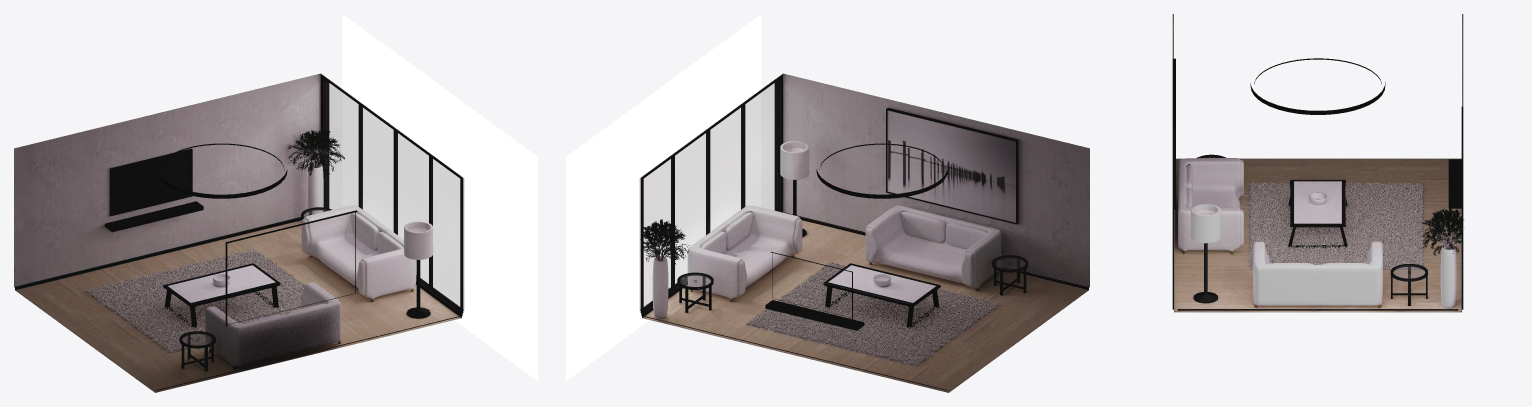
Rendered from mjp-cozy-living.glb.
The picture shows the model from 3 angles, left to right: view 1: azimuth 30°, elevation 25°; view 2: azimuth 150°, elevation 25°; view 3: azimuth 270°, elevation 25°; orthographic projection. The views are drawn at different scales.
Visible parts, largest first — view 1: Modern Living Room_Structure_Windows_0, Modern Living Room_Backdrop_0, Modern Living Room_Sofa_0, Modern Living Room_Structure_0, Modern Living Room_Carpet_0, Modern Living Room_TV_0, Modern Living Room_CoffeeTable_0, Modern Living Room_Lamp_0, Modern Living Room_PlantLeaves_0, Modern Living Room_Shelf_0, Modern Living Room_Light_0, Modern Living Room_EndTable_0 (+2 smaller); view 2: Modern Living Room_Structure_Windows_0, Modern Living Room_Backdrop_0, Modern Living Room_Sofa_0, Modern Living Room_Structure_0, Modern Living Room_Painting_0, Modern Living Room_Carpet_0, Modern Living Room_CoffeeTable_0, Modern Living Room_EndTable_0, Modern Living Room_Lamp_0, Modern Living Room_PlantLeaves_0, Modern Living Room_Shelf_0, Modern Living Room_Pot_0 (+2 smaller); view 3: Modern Living Room_Structure_Windows_0, Modern Living Room_Sofa_0, Modern Living Room_Carpet_0, Modern Living Room_CoffeeTable_0, Modern Living Room_Lamp_0, Modern Living Room_PlantLeaves_0, Modern Living Room_Pot_0, Modern Living Room_Light_0, Modern Living Room_Shelf_0, Modern Living Room_EndTable_0, Modern Living Room_Painting_0, Modern Living Room_EndTable_Glass_0.
Part boxes in pixels (bbox=[...]): Modern Living Room_Structure_Windows_0: bbox=[14, 73, 463, 392]; Modern Living Room_Backdrop_0: bbox=[342, 14, 537, 381]; Modern Living Room_Sofa_0: bbox=[205, 205, 416, 369]; Modern Living Room_Structure_0: bbox=[330, 84, 459, 305]; Modern Living Room_Carpet_0: bbox=[86, 248, 304, 352]; Modern Living Room_TV_0: bbox=[110, 148, 192, 215]; Modern Living Room_CoffeeTable_0: bbox=[163, 263, 280, 328]; Modern Living Room_Lamp_0: bbox=[404, 221, 433, 318]; Modern Living Room_PlantLeaves_0: bbox=[288, 128, 344, 175]; Modern Living Room_Shelf_0: bbox=[105, 201, 203, 232]; Modern Living Room_Light_0: bbox=[156, 143, 287, 198]; Modern Living Room_EndTable_0: bbox=[179, 207, 331, 371]; Modern Living Room_Structure_Windows_0: bbox=[640, 73, 1089, 392]; Modern Living Room_Backdrop_0: bbox=[566, 14, 761, 381]; Modern Living Room_Sofa_0: bbox=[687, 205, 1001, 301]; Modern Living Room_Structure_0: bbox=[644, 84, 773, 305]; Modern Living Room_Painting_0: bbox=[886, 108, 1018, 224]; Modern Living Room_Carpet_0: bbox=[746, 261, 999, 366]; Modern Living Room_CoffeeTable_0: bbox=[823, 263, 940, 328]; Modern Living Room_EndTable_0: bbox=[677, 255, 1028, 312]; Modern Living Room_Lamp_0: bbox=[780, 141, 809, 237]; Modern Living Room_PlantLeaves_0: bbox=[640, 219, 689, 265]; Modern Living Room_Shelf_0: bbox=[765, 300, 864, 330]; Modern Living Room_Pot_0: bbox=[652, 256, 668, 318]; Modern Living Room_Structure_Windows_0: bbox=[1172, 14, 1463, 312]; Modern Living Room_Sofa_0: bbox=[1178, 158, 1382, 307]; Modern Living Room_Carpet_0: bbox=[1249, 182, 1423, 269]; Modern Living Room_CoffeeTable_0: bbox=[1288, 180, 1347, 248]; Modern Living Room_Lamp_0: bbox=[1191, 203, 1220, 303]; Modern Living Room_PlantLeaves_0: bbox=[1421, 208, 1464, 255]; Modern Living Room_Pot_0: bbox=[1440, 244, 1456, 308]; Modern Living Room_Light_0: bbox=[1250, 58, 1385, 114]; Modern Living Room_Shelf_0: bbox=[1448, 159, 1463, 208]; Modern Living Room_EndTable_0: bbox=[1196, 154, 1427, 305]; Modern Living Room_Painting_0: bbox=[1172, 58, 1175, 209]; Modern Living Room_EndTable_Glass_0: bbox=[1203, 156, 1425, 278].
Size of the model in its own units: 6.65 by 4.02 by 6.32.
17 materials, 16 textured.
